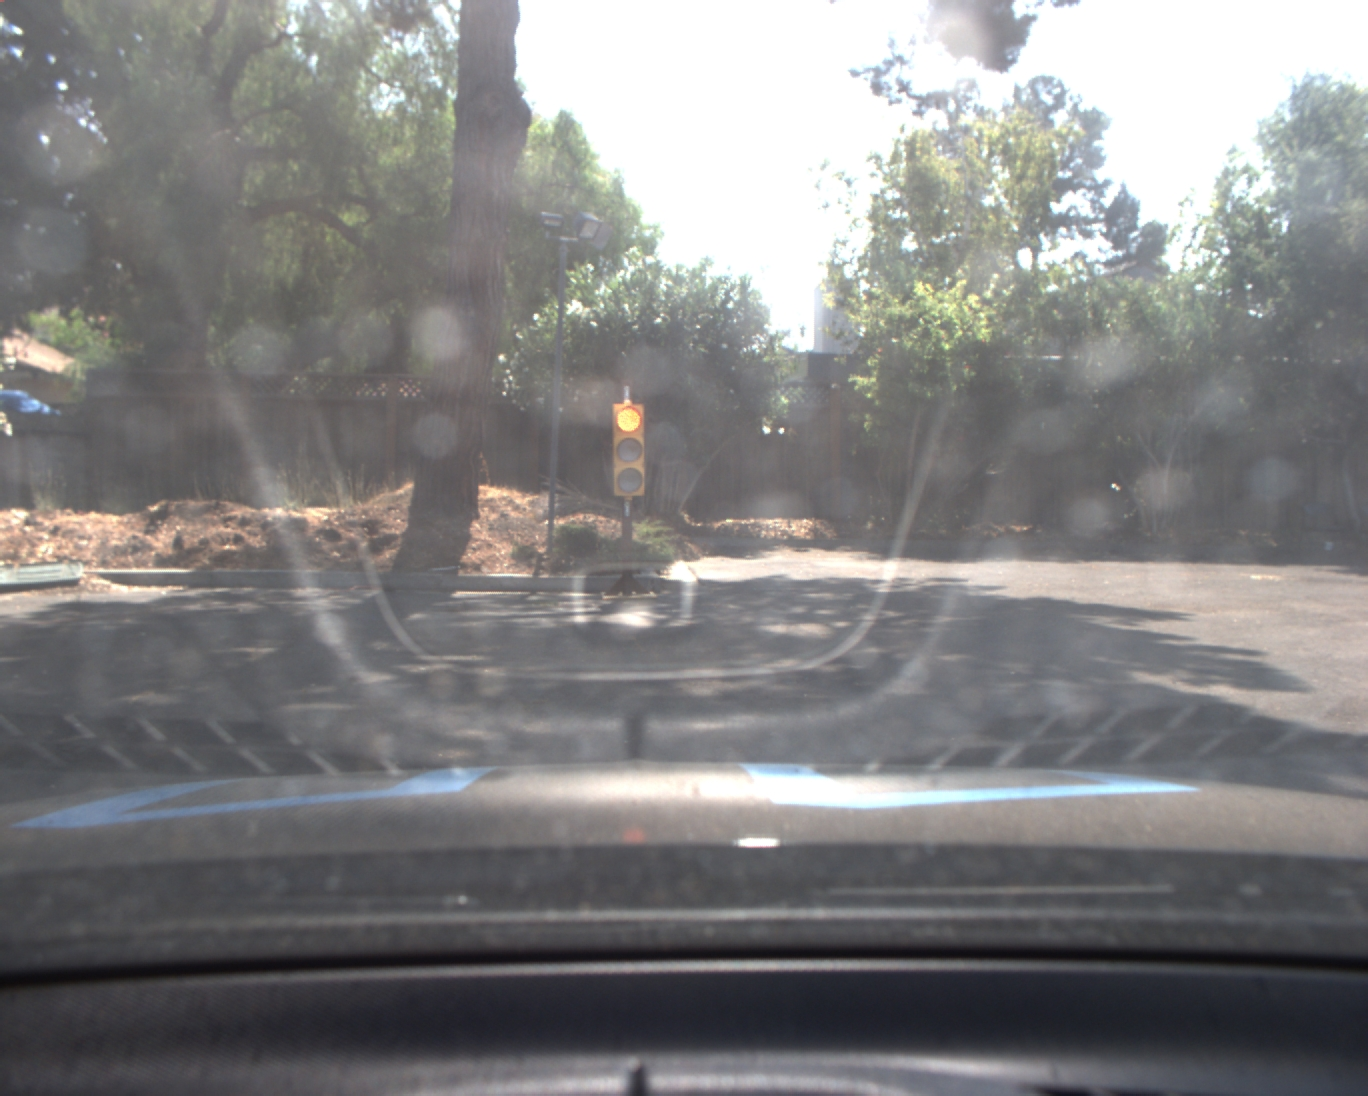red: (613, 402, 644, 501)
